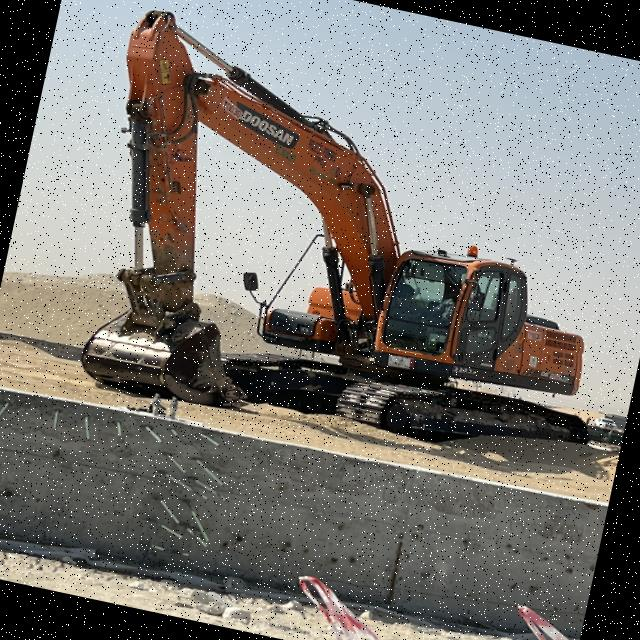Excavator: (55, 3, 640, 487)
